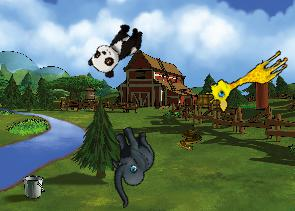elephant: (89, 120, 171, 208)
giraffe: (201, 39, 292, 116)
panda: (85, 16, 148, 82)
